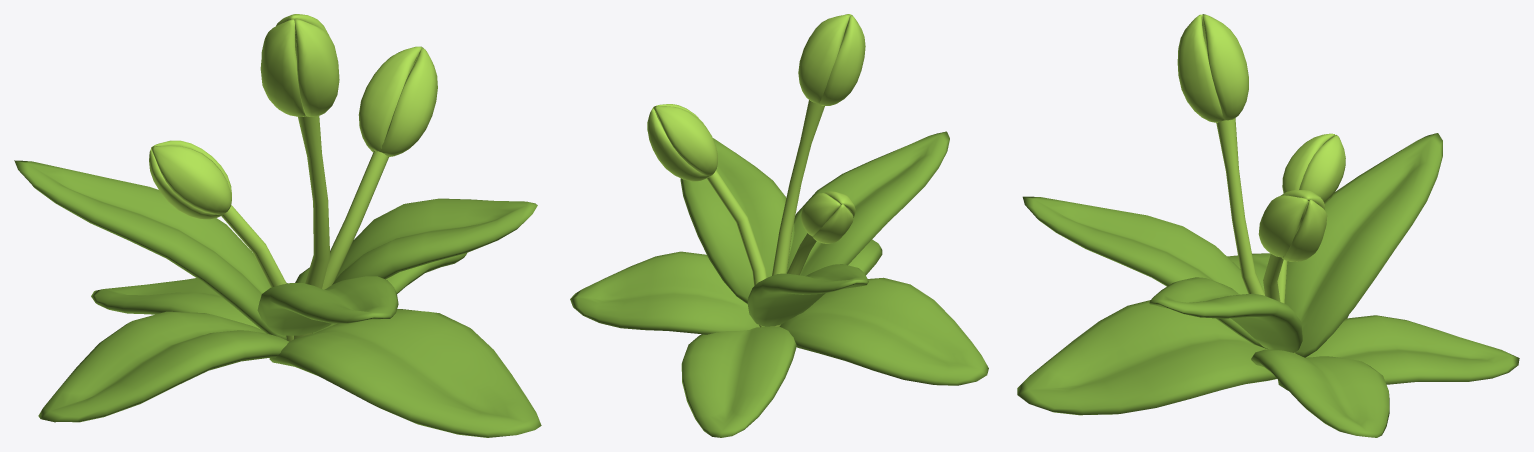
File: Tulip_1.fbx
3 renders of one model, left to right at view 1: azimuth 30°, elevation 25°; view 2: azimuth 150°, elevation 25°; view 3: azimuth 270°, elevation 25°, orthographic. The views are drawn at different scales.
Parts seen in each view (by area): view 1: Leaf.023, Leaf.020, Leaf.026, Leaf.025, Leaf.024, Leaf.022, Plane.030, Plane.023, Plane.027, Plane.026, Plane.019, NurbsPath.010 (+4 smaller); view 2: Leaf.020, Leaf.021, Leaf.022, Leaf.025, Leaf.024, Leaf.026, Plane.024, Plane.026, NurbsPath.010, Plane.019, NurbsPath.011, Plane.025 (+4 smaller); view 3: Leaf.023, Leaf.026, Leaf.024, Leaf.022, Leaf.021, Leaf.025, Plane.024, Plane.023, NurbsPath.010, Plane.027, Plane.028, Plane.025 (+3 smaller).
Boxes of the visible parts, x1,y1,x2,y2 form: Leaf.023: [269, 309, 541, 437]; Leaf.020: [38, 311, 289, 422]; Leaf.026: [14, 160, 287, 340]; Leaf.025: [332, 198, 537, 284]; Leaf.024: [257, 276, 398, 335]; Leaf.022: [91, 278, 287, 329]; Plane.030: [151, 145, 231, 214]; Plane.023: [294, 18, 339, 116]; Plane.027: [381, 47, 437, 156]; Plane.026: [358, 46, 421, 151]; Plane.019: [260, 19, 305, 116]; NurbsPath.010: [294, 116, 329, 339]; Leaf.020: [779, 277, 988, 385]; Leaf.021: [570, 251, 759, 334]; Leaf.022: [681, 326, 796, 437]; Leaf.025: [680, 138, 794, 303]; Leaf.024: [787, 131, 949, 275]; Leaf.026: [747, 264, 868, 326]; Plane.024: [798, 14, 849, 103]; Plane.026: [654, 106, 717, 176]; NurbsPath.010: [772, 100, 824, 275]; Plane.019: [819, 14, 865, 105]; NurbsPath.011: [707, 170, 766, 327]; Plane.025: [647, 108, 710, 181]; Leaf.023: [1017, 300, 1277, 415]; Leaf.026: [1284, 133, 1442, 357]; Leaf.024: [1022, 196, 1267, 348]; Leaf.022: [1277, 315, 1519, 390]; Leaf.021: [1251, 349, 1389, 437]; Leaf.025: [1149, 277, 1302, 352]; Plane.024: [1202, 14, 1248, 120]; Plane.023: [1177, 15, 1224, 122]; NurbsPath.010: [1216, 118, 1264, 295]; Plane.027: [1258, 195, 1307, 257]; Plane.028: [1299, 135, 1345, 202]; Plane.025: [1282, 199, 1327, 261].
Size of the model in its own units: 0.6146 by 0.6429 by 0.5014.
